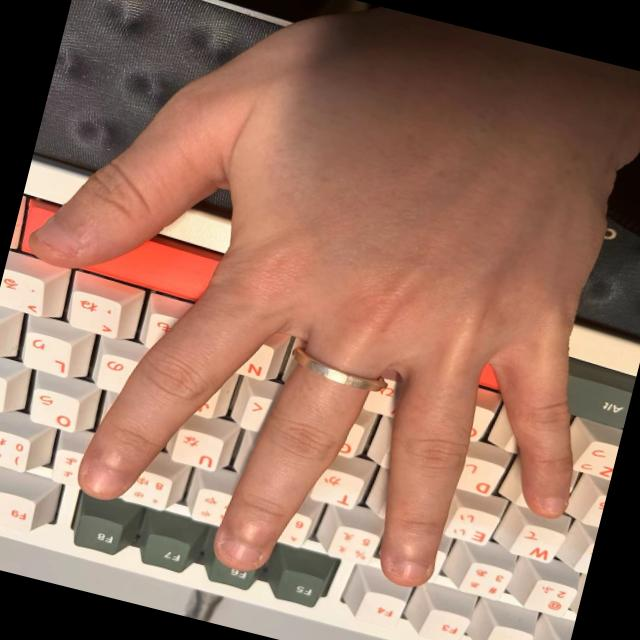Nail: (34, 216, 80, 251), (80, 468, 123, 497), (218, 539, 259, 563), (389, 560, 426, 578), (537, 496, 563, 515)
